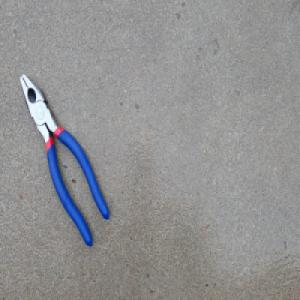Pliers: (19, 73, 110, 247)
